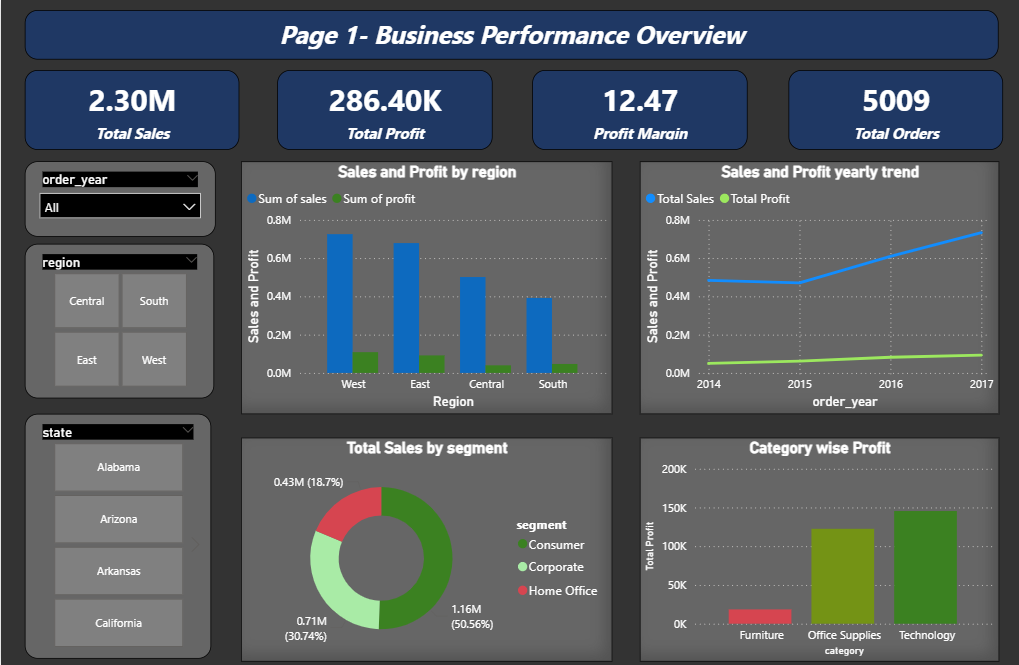

The dashboard page shown, as its layout file describes it:
{"tool":"powerbi","page":{"name":"Page 1","canvas":[1100,720],"ordinal":0},"visuals":[{"type":"card","fields":{"Values":["sales_data.Total Sales"]},"box":[26.2,76.2,232,86.2],"z":0},{"type":"card","fields":{"Values":["sales_data.Profit Margin"]},"box":[573.8,76.2,232.5,86.2],"z":1000},{"type":"card","fields":{"Values":["sales_data.Total Profit"]},"box":[298.8,76.2,232.5,86.2],"z":2000},{"type":"clusteredColumnChart","title":"Sales and Profit by region","fields":{"Category":["sales_data.region"],"Y":["Sum(sales_data.sales)","Sum(sales_data.profit)"]},"box":[260,173.8,401.2,273.8],"z":3000},{"type":"clusteredColumnChart","title":"Category wise Profit","fields":{"Y":["sales_data.Total Profit"],"Category":["sales_data.category"]},"box":[690,472.5,388.8,242.5],"z":4000},{"type":"card","fields":{"Values":["sales_data.Total Orders"]},"box":[851.2,76.2,232,86.2],"z":5000},{"type":"lineChart","title":"Sales and Profit yearly trend","fields":{"Category":["sales_data.order_date.Variation.Date Hierarchy.Year"],"Y":["sales_data.Total Sales","sales_data.Total Profit"]},"box":[690,173.8,388.8,273.8],"z":6000},{"type":"donutChart","fields":{"Category":["sales_data.segment"],"Y":["sales_data.Total Sales"]},"box":[260,472.5,401.2,242.5],"z":7000},{"type":"slicer","fields":{"Values":["sales_data.region"]},"box":[26.2,263.8,205,167.5],"z":8000},{"type":"slicer","fields":{"Values":["sales_data.order_year"]},"box":[25,173.8,206.2,81.2],"z":9000},{"type":"card","title":"Page 1- Overview","fields":{"Values":["sales_data.Page_1"]},"box":[26.2,11.2,1052.5,53.8],"z":10000},{"type":"slicer","fields":{"Values":["sales_data.state"]},"box":[25,447.5,201.2,265],"z":11000}]}

Visuals, with their boxes in screenshot pixels (x1, y1, x2, y2), scaled from the page's 1100x720 canvas onto the 1019x665 screenshot:
card - sales_data.Total Sales: x1=24, y1=70, x2=239, y2=150
card - sales_data.Profit Margin: x1=532, y1=70, x2=747, y2=150
card - sales_data.Total Profit: x1=277, y1=70, x2=492, y2=150
"Sales and Profit by region" clusteredColumnChart: x1=241, y1=161, x2=613, y2=413
"Category wise Profit" clusteredColumnChart: x1=639, y1=436, x2=999, y2=660
card - sales_data.Total Orders: x1=789, y1=70, x2=1003, y2=150
"Sales and Profit yearly trend" lineChart: x1=639, y1=161, x2=999, y2=413
donutChart - sales_data.segment x sales_data.Total Sales: x1=241, y1=436, x2=613, y2=660
slicer - sales_data.region: x1=24, y1=244, x2=214, y2=398
slicer - sales_data.order_year: x1=23, y1=161, x2=214, y2=236
"Page 1- Overview" card: x1=24, y1=10, x2=999, y2=60
slicer - sales_data.state: x1=23, y1=413, x2=210, y2=658
